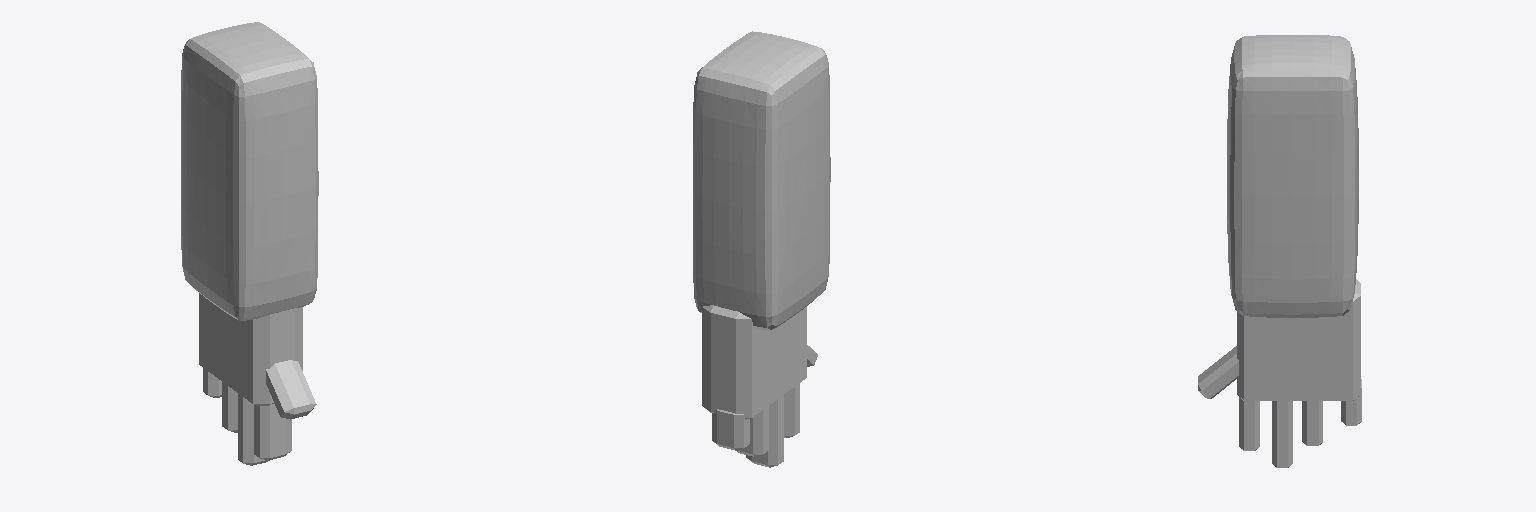
The model's file is arm4.obj.
3 renders of one model, left to right at view 1: azimuth 30°, elevation 25°; view 2: azimuth 150°, elevation 25°; view 3: azimuth 270°, elevation 25°, orthographic.
Parts seen in each view (by area): view 1: polySurface9; view 2: polySurface9; view 3: polySurface9.
Part boxes in pixels (bbox=[...]): polySurface9: bbox=[181, 22, 318, 465]; polySurface9: bbox=[693, 31, 830, 467]; polySurface9: bbox=[1198, 35, 1361, 467].
Size of the model in its own units: 0.6544 by 2.95 by 1.06.